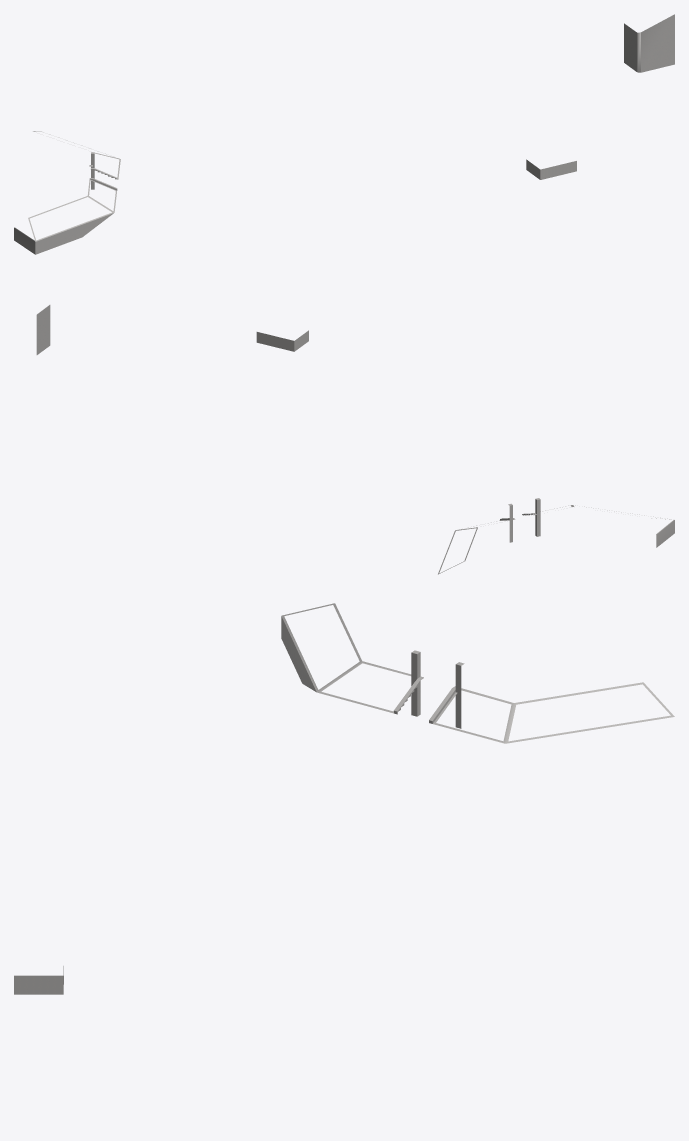
The model's file is kd_stage_1366d7_0_21_bounded.glb.
3 views of the same model, one above another, from view 1: azimuth 30°, elevation 25°; view 2: azimuth 150°, elevation 25°; view 3: azimuth 270°, elevation 25° (orthographic). The views are drawn at different scales.
Parts seen in each view (by area): view 1: kd_stage_1366d7_0_21_bounded; view 2: kd_stage_1366d7_0_21_bounded; view 3: kd_stage_1366d7_0_21_bounded.
Part boxes in pixels (box(x1,y1,x2,y2)): kd_stage_1366d7_0_21_bounded: box(14, 14, 674, 254); kd_stage_1366d7_0_21_bounded: box(36, 305, 674, 574); kd_stage_1366d7_0_21_bounded: box(14, 603, 674, 994).
Bounding box in the file's own units: 146 × 18.5 × 73.75.
Materials: 1 (1 with a texture image).
